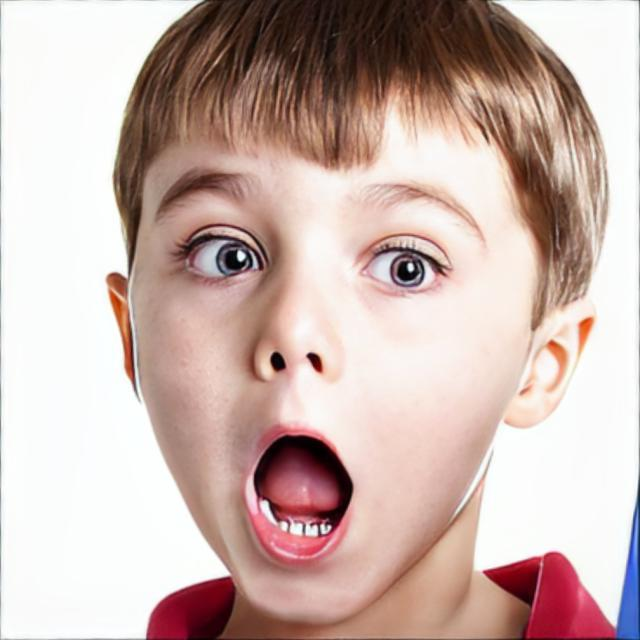surprise: (123, 52, 544, 629)
